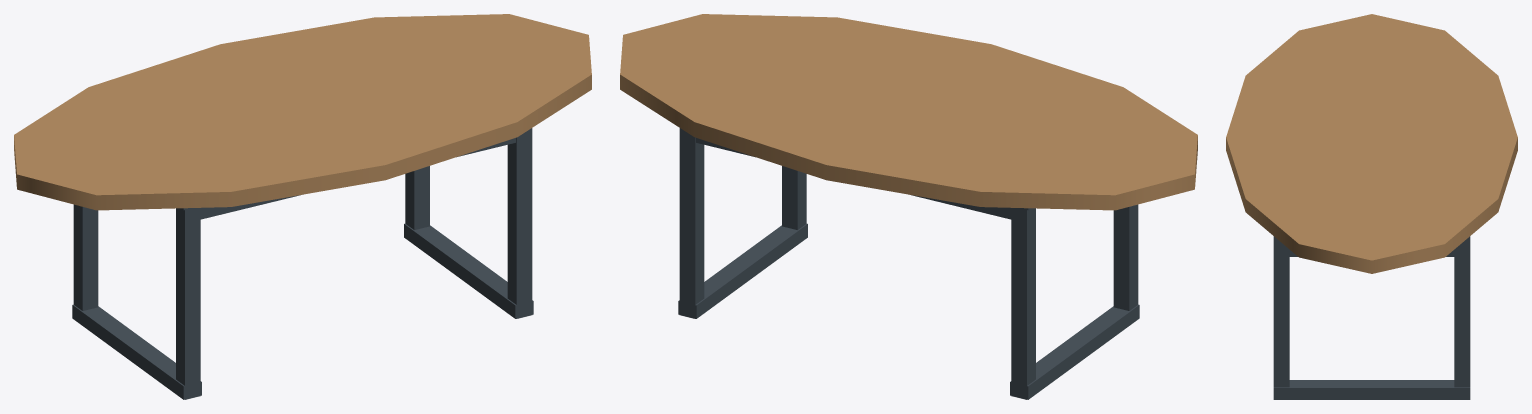
File: coffeeTable-2.glb
The picture shows the model from 3 angles, left to right: view 1: azimuth 30°, elevation 25°; view 2: azimuth 150°, elevation 25°; view 3: azimuth 270°, elevation 25°; orthographic projection. The views are drawn at different scales.
Parts seen in each view (by area): view 1: coffeeTable:2:editor; view 2: coffeeTable:2:editor; view 3: coffeeTable:2:editor.
Boxes of the visible parts, x1,y1,x2,y2 form: coffeeTable:2:editor: (14,14,591,399); coffeeTable:2:editor: (620,14,1197,399); coffeeTable:2:editor: (1226,14,1517,399).
Size of the model in its own units: 1.1 by 0.39 by 0.5501.
